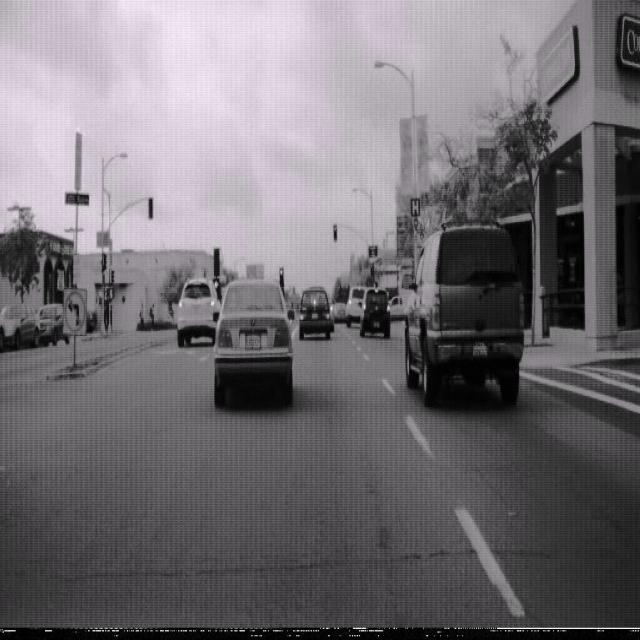noLeftTurn: (62, 287, 87, 336)
